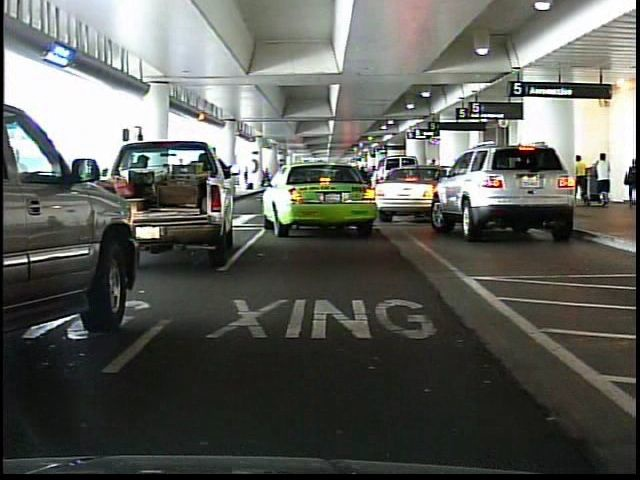person: (594, 152, 613, 208), (577, 150, 591, 207), (622, 159, 636, 210)
